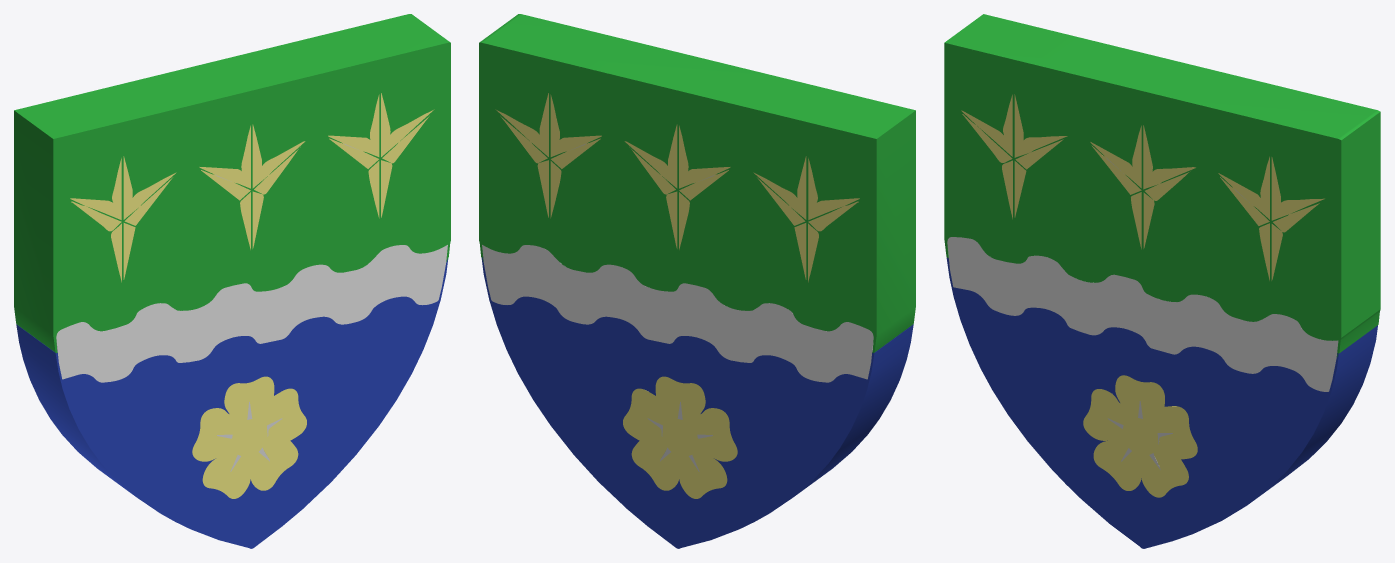
Rendered from boulaide2.gltf.
3 renders of one model, left to right at view 1: azimuth 30°, elevation 25°; view 2: azimuth 150°, elevation 25°; view 3: azimuth 330°, elevation 25°, orthographic.
Parts seen in each view (by area): view 1: Boole.1, Fill (×9), Boole; view 2: Boole.1, Fill (×9), Boole; view 3: Boole.1, Fill (×9), Boole.
Boxes of the visible parts, x1,y1,x2,y2 form: Boole.1: (14,43,450,353); Fill (×9): (16,14,450,498); Boole: (16,258,448,548); Boole.1: (479,43,915,353); Fill (×9): (479,14,913,498); Boole: (481,257,913,548); Boole.1: (944,14,1380,356); Fill (×9): (947,14,1380,497); Boole: (946,257,1377,548).
Bounding box in the file's own units: 96.13 × 106 × 16.45.
